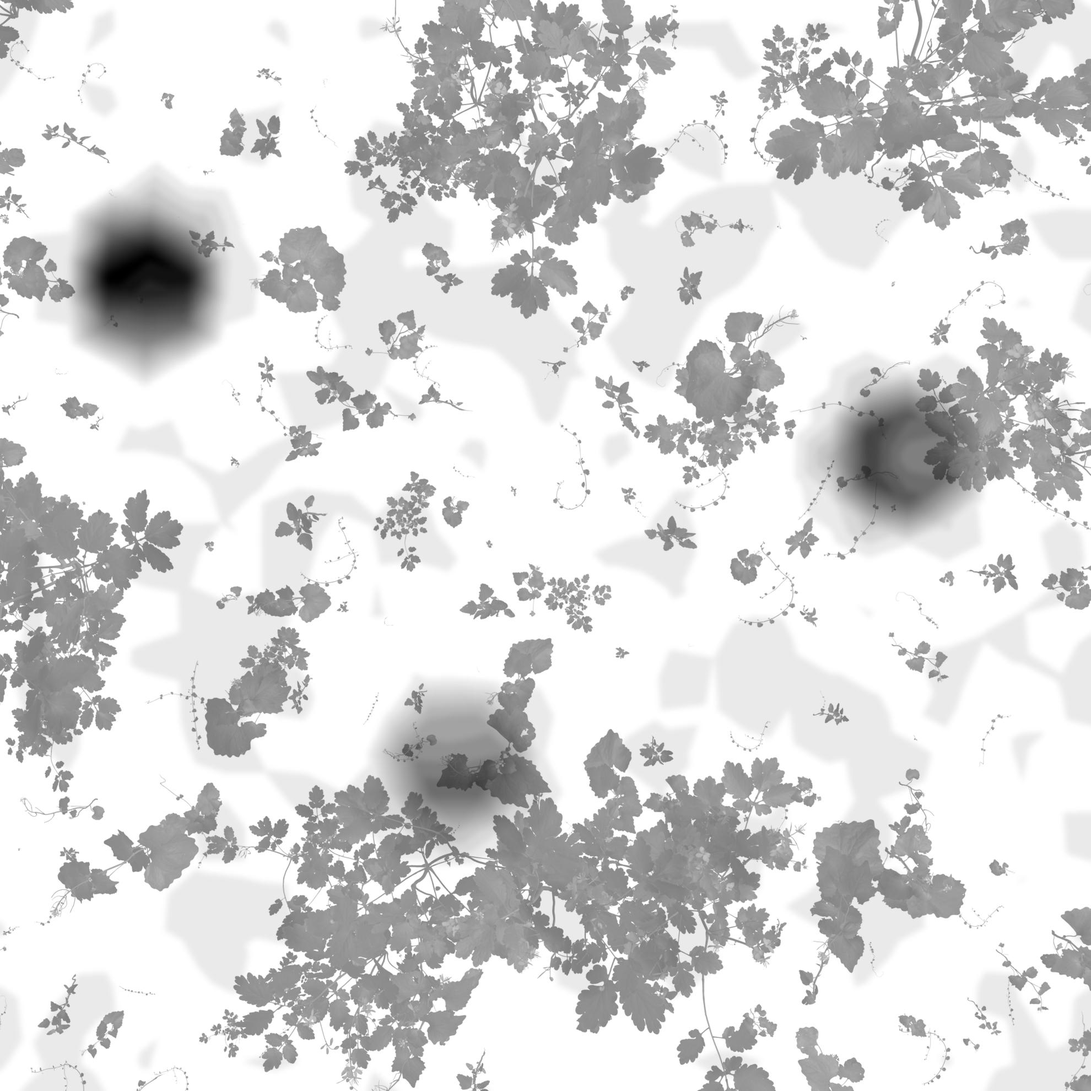landmine: (807, 373, 973, 548), (60, 206, 223, 362), (384, 695, 520, 828)
